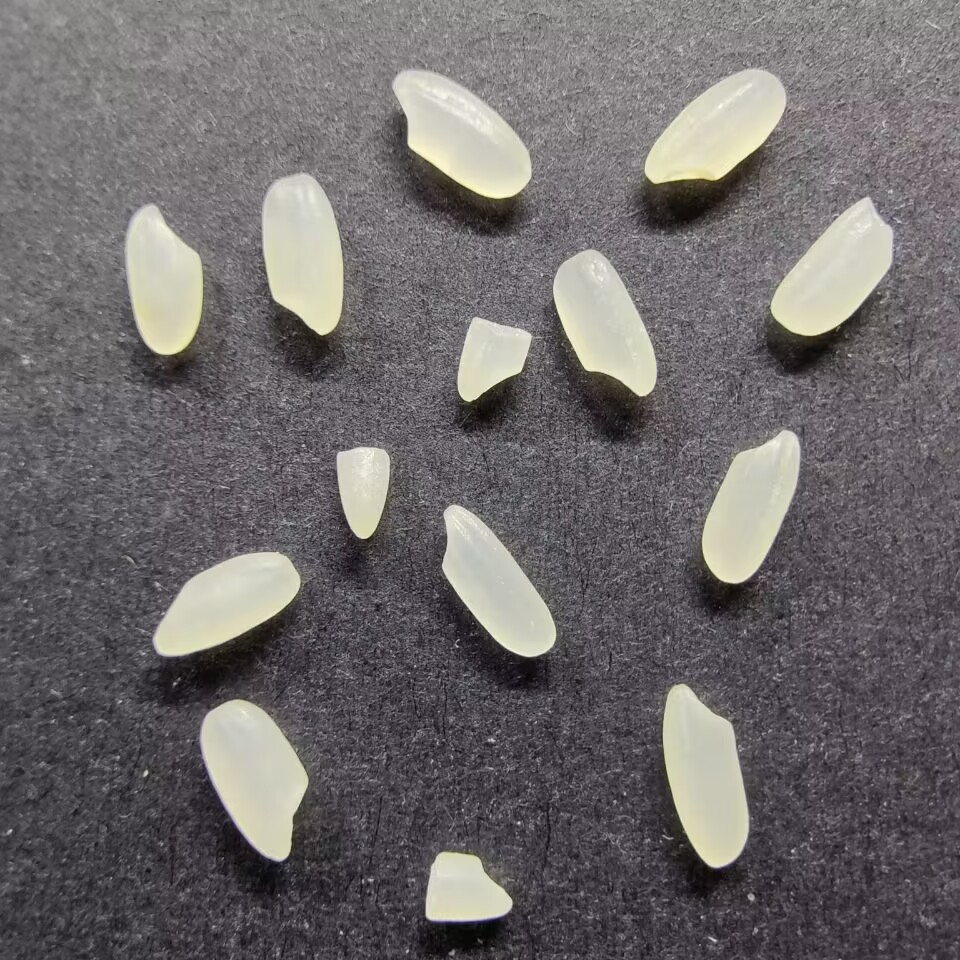broken: (455, 315, 534, 403), (422, 849, 513, 924), (334, 445, 391, 542)
rice: (390, 68, 533, 200), (768, 192, 896, 338), (197, 699, 310, 863), (440, 502, 557, 659), (643, 67, 788, 185), (660, 682, 750, 869), (150, 550, 303, 659), (552, 247, 658, 398), (701, 427, 803, 583), (259, 173, 344, 336), (124, 202, 204, 357)
